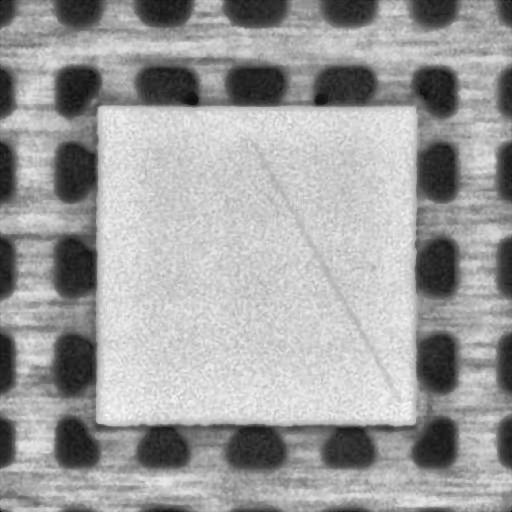DIE_CRACK: (251, 142, 399, 401)
